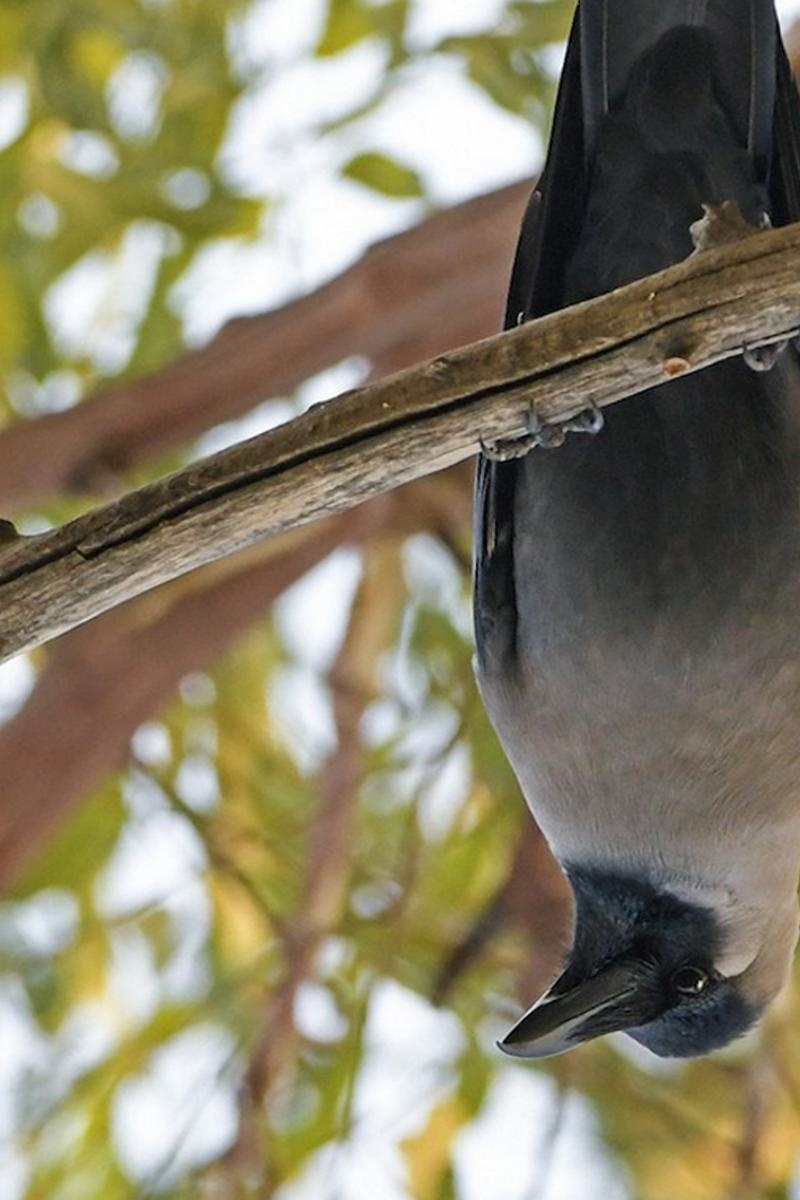crow: (479, 1, 800, 1112)
